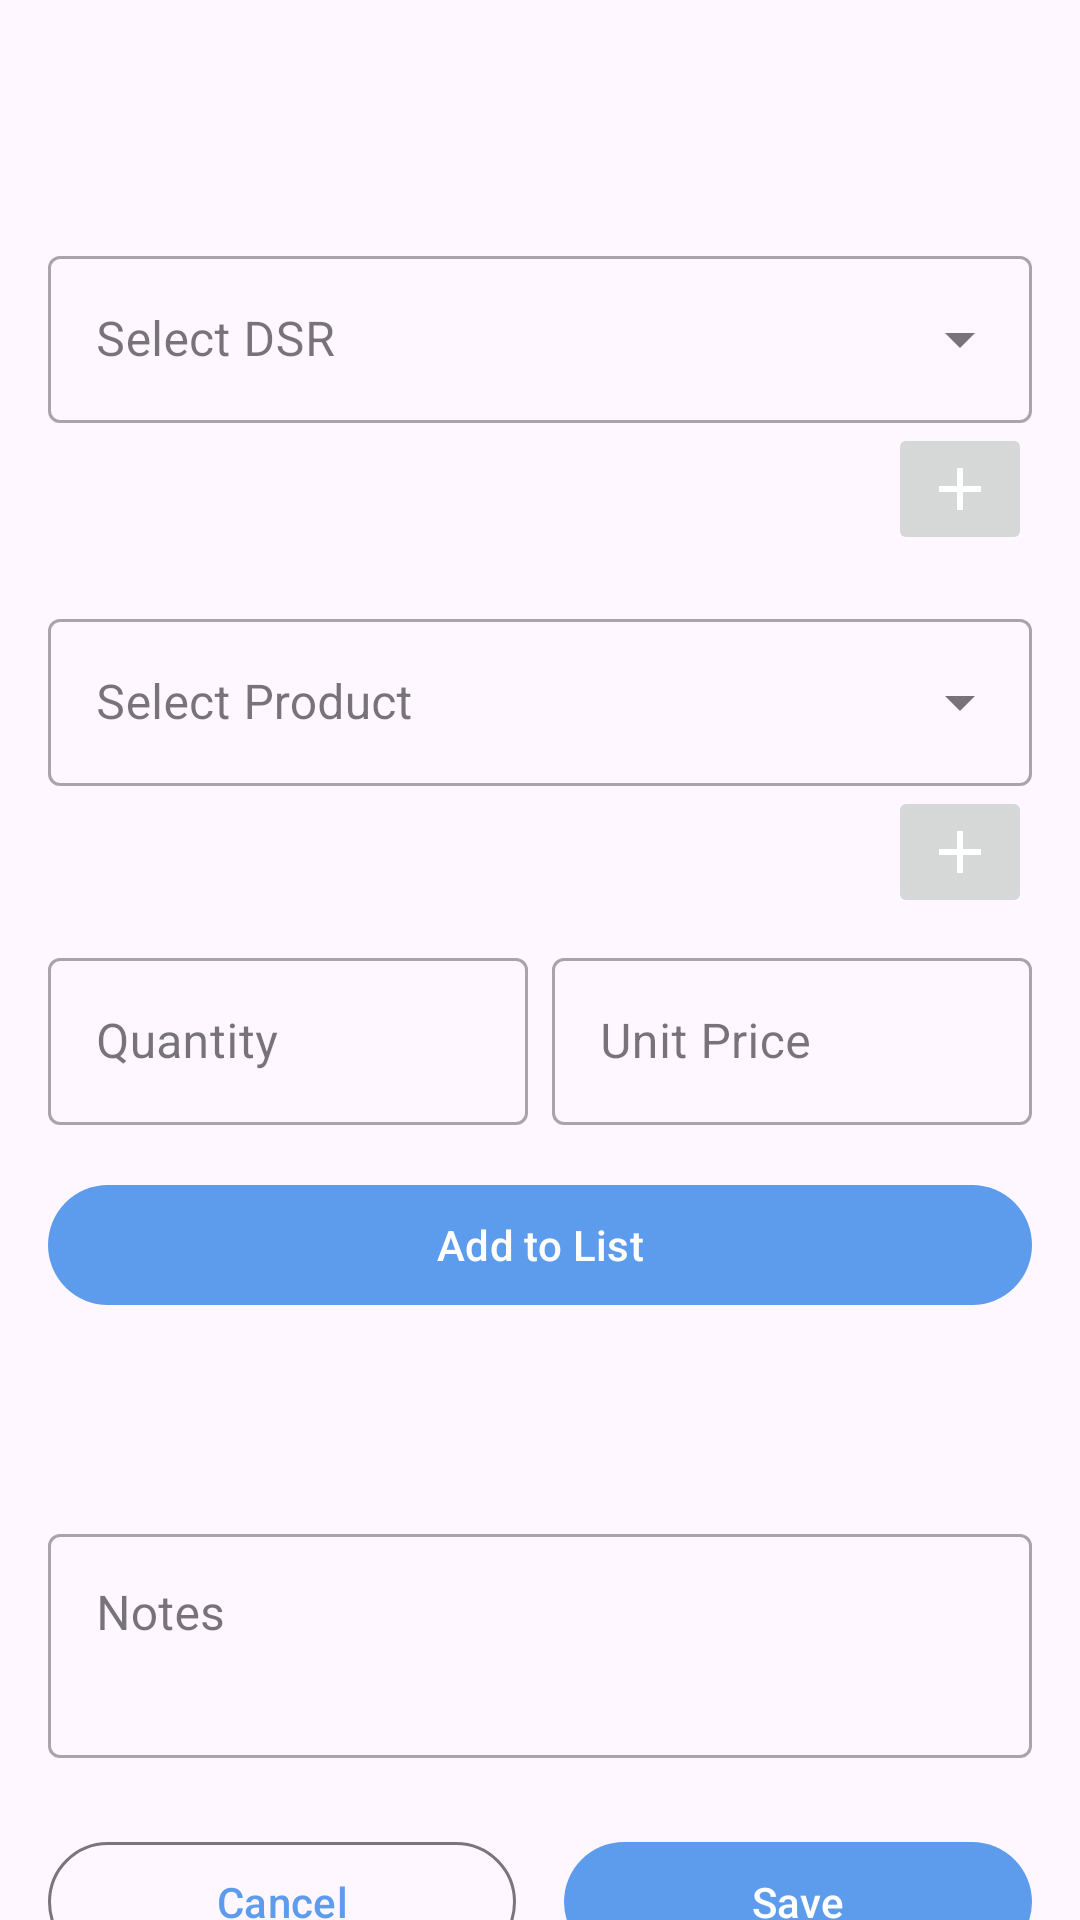

Where icons sit on this 1080 x 1920 app screen, as rect(x1, y1, x2, y2):
add: rect(900, 441, 1020, 537), rect(900, 804, 1020, 900)
